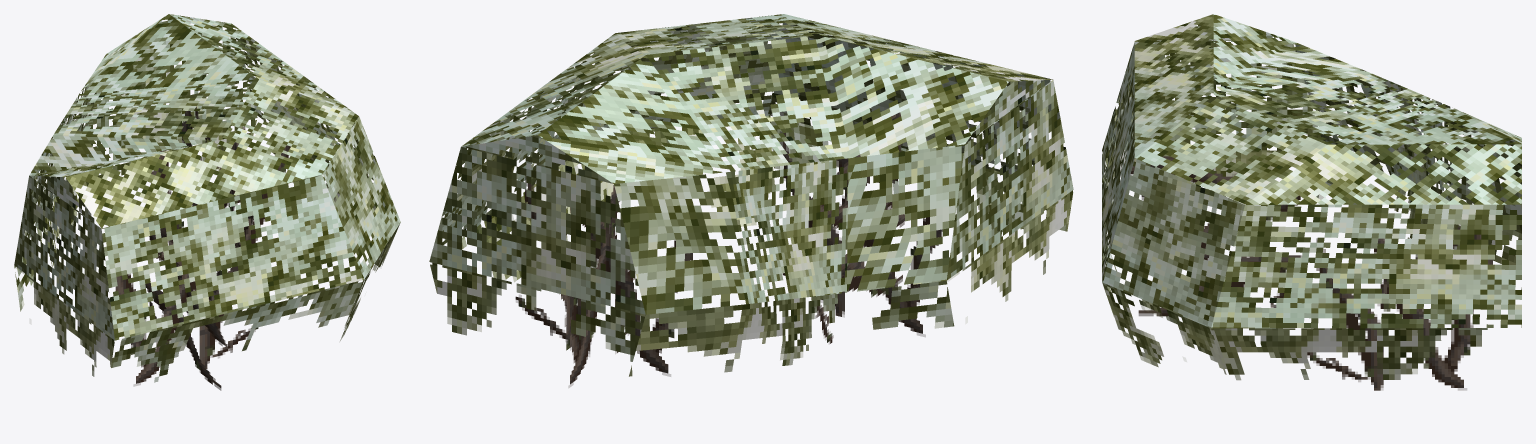
The model's file is bush_round_corner_filled_root_winter.glb.
The picture shows the model from 3 angles, left to right: view 1: azimuth 30°, elevation 25°; view 2: azimuth 150°, elevation 25°; view 3: azimuth 270°, elevation 25°; orthographic projection. The views are drawn at different scales.
Parts seen in each view (by area): view 1: bush_round_corner_filled_root_winter; view 2: bush_round_corner_filled_root_winter; view 3: bush_round_corner_filled_root_winter.
Part boxes in pixels (x1=…): bush_round_corner_filled_root_winter: x1=14, y1=14, x2=400, y2=390; bush_round_corner_filled_root_winter: x1=429, y1=14, x2=1073, y2=387; bush_round_corner_filled_root_winter: x1=1102, y1=14, x2=1521, y2=390.
Bounding box in the file's own units: 1.36 × 0.8765 × 1.35.
Materials: 2 (2 with a texture image).
